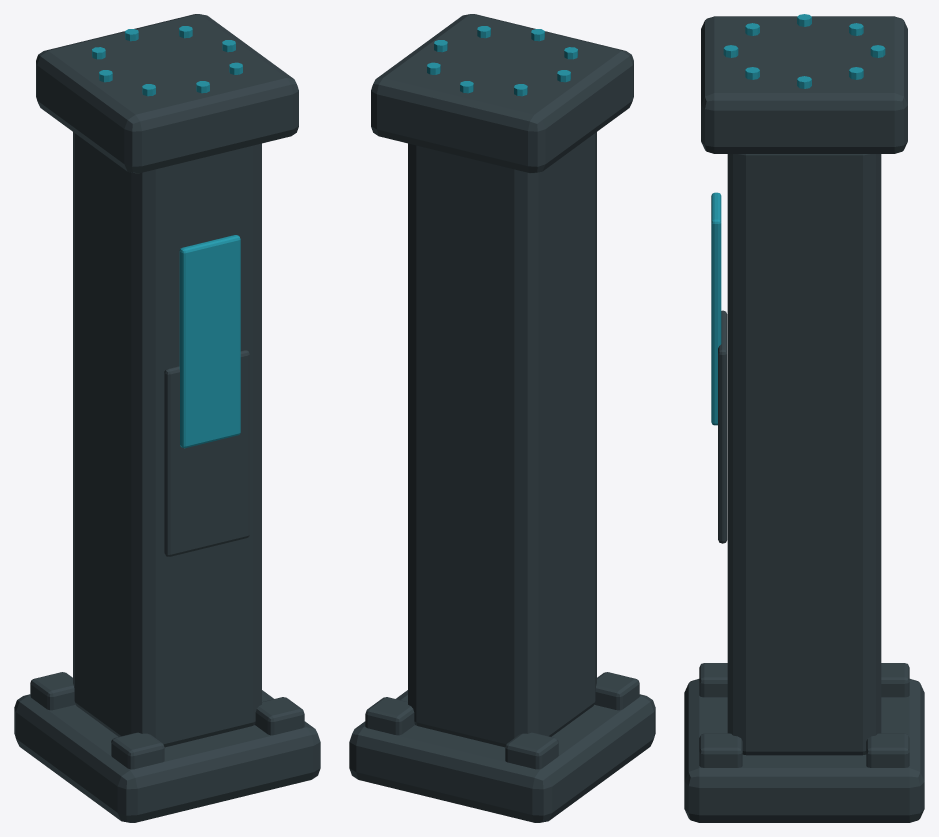
Rendered from dz_service_pillar.glb.
3 views of the same model, side by side, from view 1: azimuth 30°, elevation 25°; view 2: azimuth 150°, elevation 25°; view 3: azimuth 270°, elevation 25° (orthographic). The views are drawn at different scales.
Parts seen in each view (by area): view 1: PillarBody, PillarCap, PillarBase, SignalStrip, ServicePanel, Foot_-0.25_-0.25, Foot_0.25_-0.25, Foot_-0.25_0.25; view 2: PillarBody, PillarCap, PillarBase, Foot_-0.25_0.25, Foot_0.25_0.25, Foot_-0.25_-0.25; view 3: PillarBody, PillarCap, PillarBase, SignalStrip, ServicePanel, Foot_0.25_0.25, Foot_0.25_-0.25, Foot_-0.25_0.25, Foot_-0.25_-0.25.
Boxes of the visible parts, bbox=[...] form: PillarBody: bbox=[73, 132, 261, 747]; PillarCap: bbox=[36, 14, 298, 173]; PillarBase: bbox=[14, 690, 320, 822]; SignalStrip: bbox=[179, 235, 240, 448]; ServicePanel: bbox=[164, 350, 249, 556]; Foot_-0.25_-0.25: bbox=[111, 732, 164, 769]; Foot_0.25_-0.25: bbox=[255, 697, 304, 735]; Foot_-0.25_0.25: bbox=[30, 672, 75, 710]; PillarBody: bbox=[408, 132, 596, 747]; PillarCap: bbox=[371, 14, 633, 173]; PillarBase: bbox=[349, 690, 655, 822]; Foot_-0.25_0.25: bbox=[505, 732, 558, 769]; Foot_0.25_0.25: bbox=[365, 697, 414, 735]; Foot_-0.25_-0.25: bbox=[594, 672, 639, 710]; PillarBody: bbox=[727, 154, 881, 755]; PillarCap: bbox=[701, 16, 907, 153]; PillarBase: bbox=[684, 679, 924, 822]; SignalStrip: bbox=[711, 192, 721, 425]; ServicePanel: bbox=[718, 310, 727, 543]; Foot_0.25_0.25: bbox=[866, 733, 909, 767]; Foot_0.25_-0.25: bbox=[699, 733, 742, 767]; Foot_-0.25_0.25: bbox=[881, 663, 909, 697]; Foot_-0.25_-0.25: bbox=[699, 663, 727, 697].
Size of the model in its own units: 0.72 by 2.41 by 0.72.
